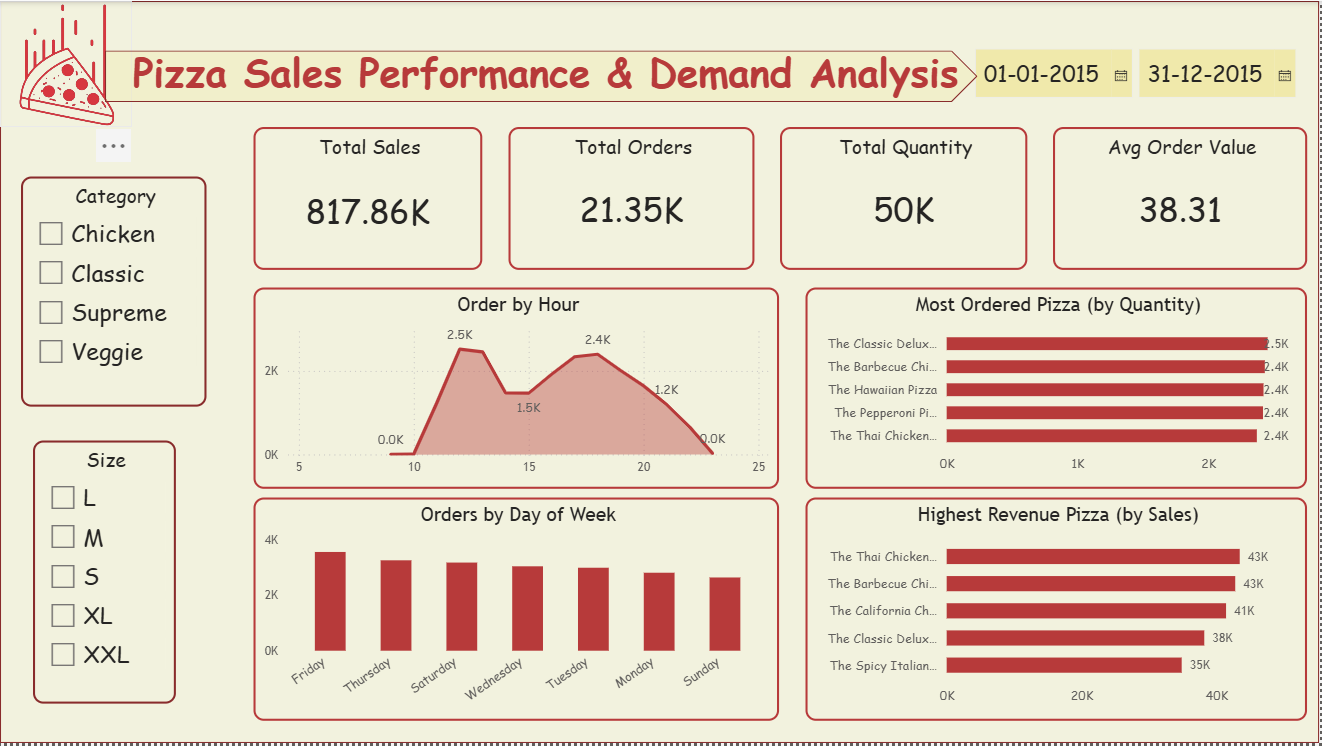

The dashboard page shown, as its layout file describes it:
{"tool":"powerbi","page":{"name":"Executive Overview","canvas":[1280,720],"ordinal":0},"visuals":[{"type":"shape","box":[0,0,1280,720],"z":500},{"type":"card","title":"Total Sales","fields":{"Values":["order_details.Total Sales"]},"box":[246.7,121.7,221.7,138.3],"z":1000},{"type":"card","title":"Total Orders","fields":{"Values":["CountNonNull(orders.order_id)"]},"box":[493.3,121.7,238.3,138.3],"z":2000},{"type":"card","title":"Total Quantity","fields":{"Values":["Sum(order_details.quantity)"]},"box":[756.7,121.7,240,138.3],"z":3000},{"type":"card","title":"Avg Order Value","fields":{"Values":["order_details.Avg Order Value"]},"box":[1021.7,121.7,246.7,138.3],"z":4000},{"type":"lineChart","title":"Order by Hour","fields":{"Y":["Count(orders.order_id)"],"Category":["orders.Order Hour"]},"box":[246.7,278.3,510,195],"z":5000},{"type":"clusteredColumnChart","title":"Orders by Day of Week","fields":{"Category":["orders.Order Day"],"Y":["Count(orders.order_id)"]},"box":[246.7,481.7,510,216.7],"z":6000},{"type":"clusteredBarChart","title":"Most Ordered Pizza (by Quantity)","fields":{"Category":["pizza_types.name"],"Y":["Sum(order_details.quantity)"]},"box":[781.7,278.3,486.7,195],"z":7000},{"type":"clusteredBarChart","title":"Highest Revenue Pizza (by Sales)","fields":{"Category":["pizza_types.name"],"Y":["order_details.Total Sales"]},"box":[781.7,481.7,486.7,216.7],"z":8000},{"type":"slicer","fields":{"Values":["orders.date"]},"box":[933.3,36.7,346.7,85],"z":9000},{"type":"slicer","title":"Category","fields":{"Values":["pizza_types.category"]},"box":[20,170,180,223.3],"z":10000},{"type":"slicer","title":"Size","fields":{"Values":["pizzas.size"]},"box":[31.7,426.7,138.3,255],"z":11000},{"type":"image","box":[0,0,128.3,121.7],"z":12000},{"type":"shape","box":[101.7,48.3,846.7,50],"z":12500},{"type":"textbox","box":[123.3,36.7,843.3,85],"z":13000}]}

Visuals, with their boxes in screenshot pixels (x1, y1, x2, y2), scaled from the page's 1280x720 canvas onto the 1322x746 screenshot:
shape: BBox(0, 0, 1321, 745)
"Total Sales" card: BBox(255, 126, 484, 269)
"Total Orders" card: BBox(509, 126, 756, 269)
"Total Quantity" card: BBox(782, 126, 1029, 269)
"Avg Order Value" card: BBox(1055, 126, 1310, 269)
"Order by Hour" lineChart: BBox(255, 288, 782, 490)
"Orders by Day of Week" clusteredColumnChart: BBox(255, 499, 782, 724)
"Most Ordered Pizza (by Quantity)" clusteredBarChart: BBox(807, 288, 1310, 490)
"Highest Revenue Pizza (by Sales)" clusteredBarChart: BBox(807, 499, 1310, 724)
slicer - orders.date: BBox(964, 38, 1321, 126)
"Category" slicer: BBox(21, 176, 207, 408)
"Size" slicer: BBox(33, 442, 176, 706)
image: BBox(0, 0, 133, 126)
shape: BBox(105, 50, 980, 102)
textbox: BBox(127, 38, 998, 126)
